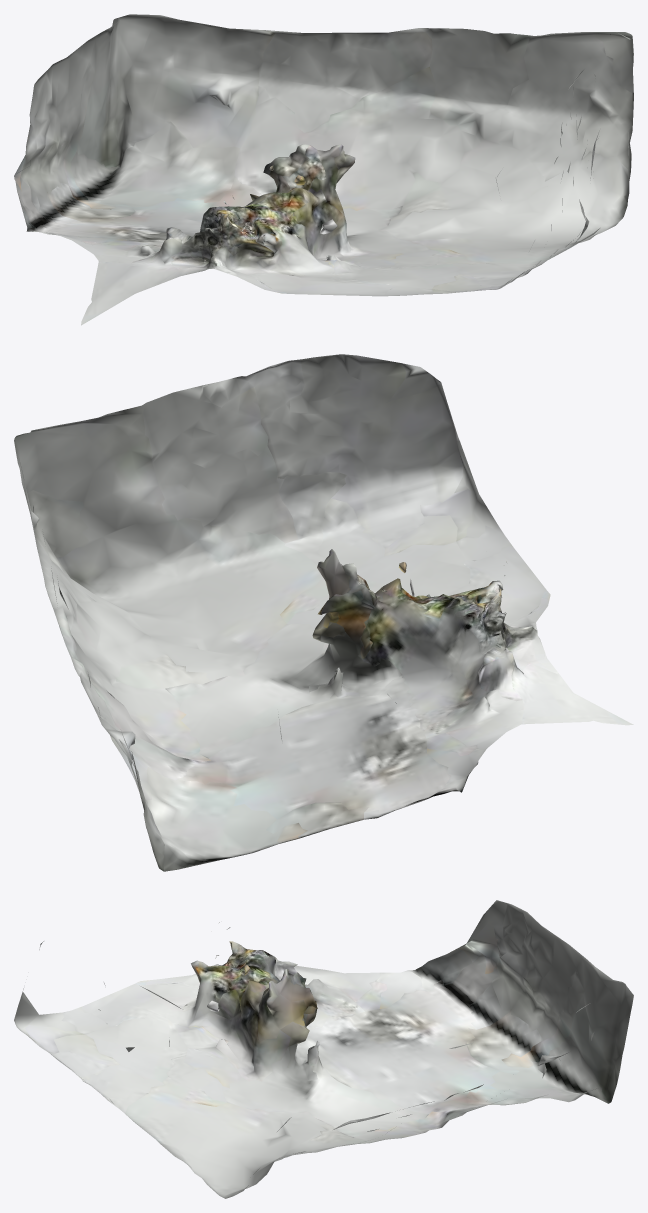
File: hall.glb
The picture shows the model from 3 angles, top to bottom: view 1: azimuth 30°, elevation 25°; view 2: azimuth 150°, elevation 25°; view 3: azimuth 270°, elevation 25°; orthographic projection. The views are drawn at different scales.
Size of the model in its own units: 1.42 by 0.5735 by 1.52.
1 material, 1 textured.
